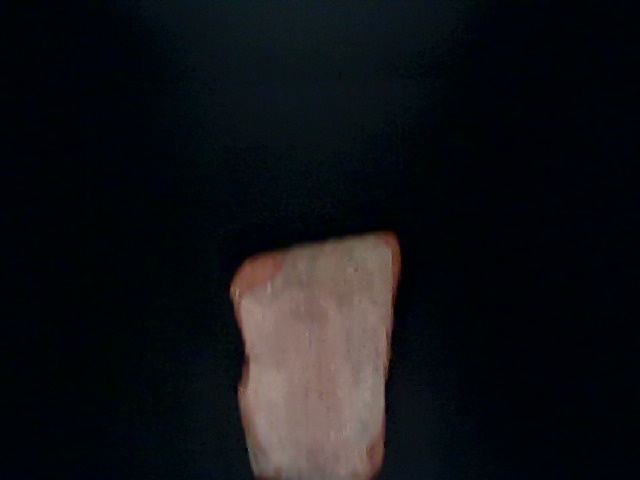KHSLJ: (1, 80, 260, 473)
